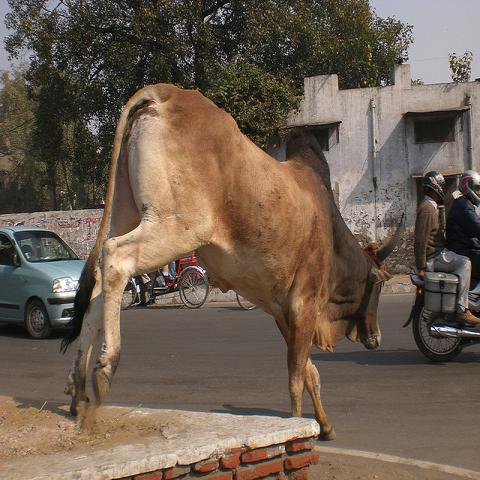car: (0, 227, 88, 340)
motorcycle: (415, 264, 478, 358)
